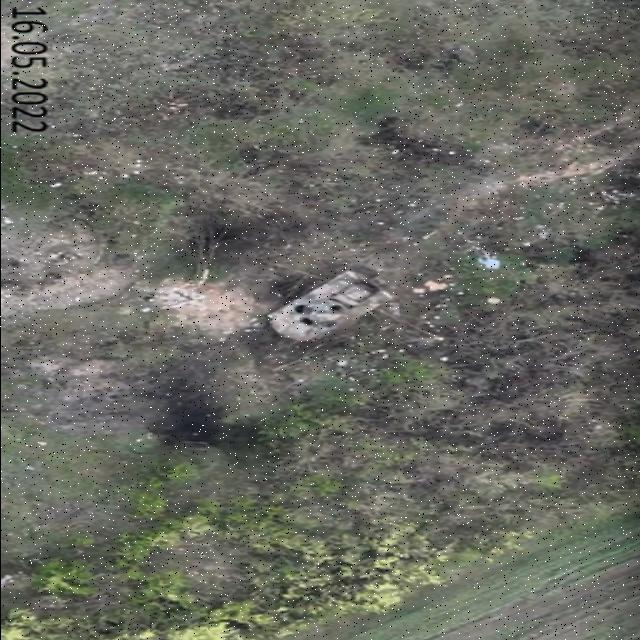APC-IFV: (256, 260, 400, 348)
